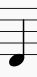D: (8, 5, 27, 69)
